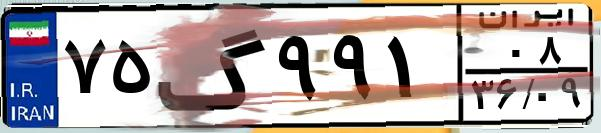0: (508, 27, 537, 80), (535, 70, 560, 125)
1: (385, 28, 445, 110)
3: (470, 70, 495, 125)
5: (110, 28, 156, 98)
6: (495, 70, 520, 125)
7: (57, 26, 110, 100)
8: (537, 27, 568, 80)
9: (270, 28, 330, 110), (330, 28, 385, 110), (560, 70, 590, 125)
گ: (156, 12, 270, 120)
